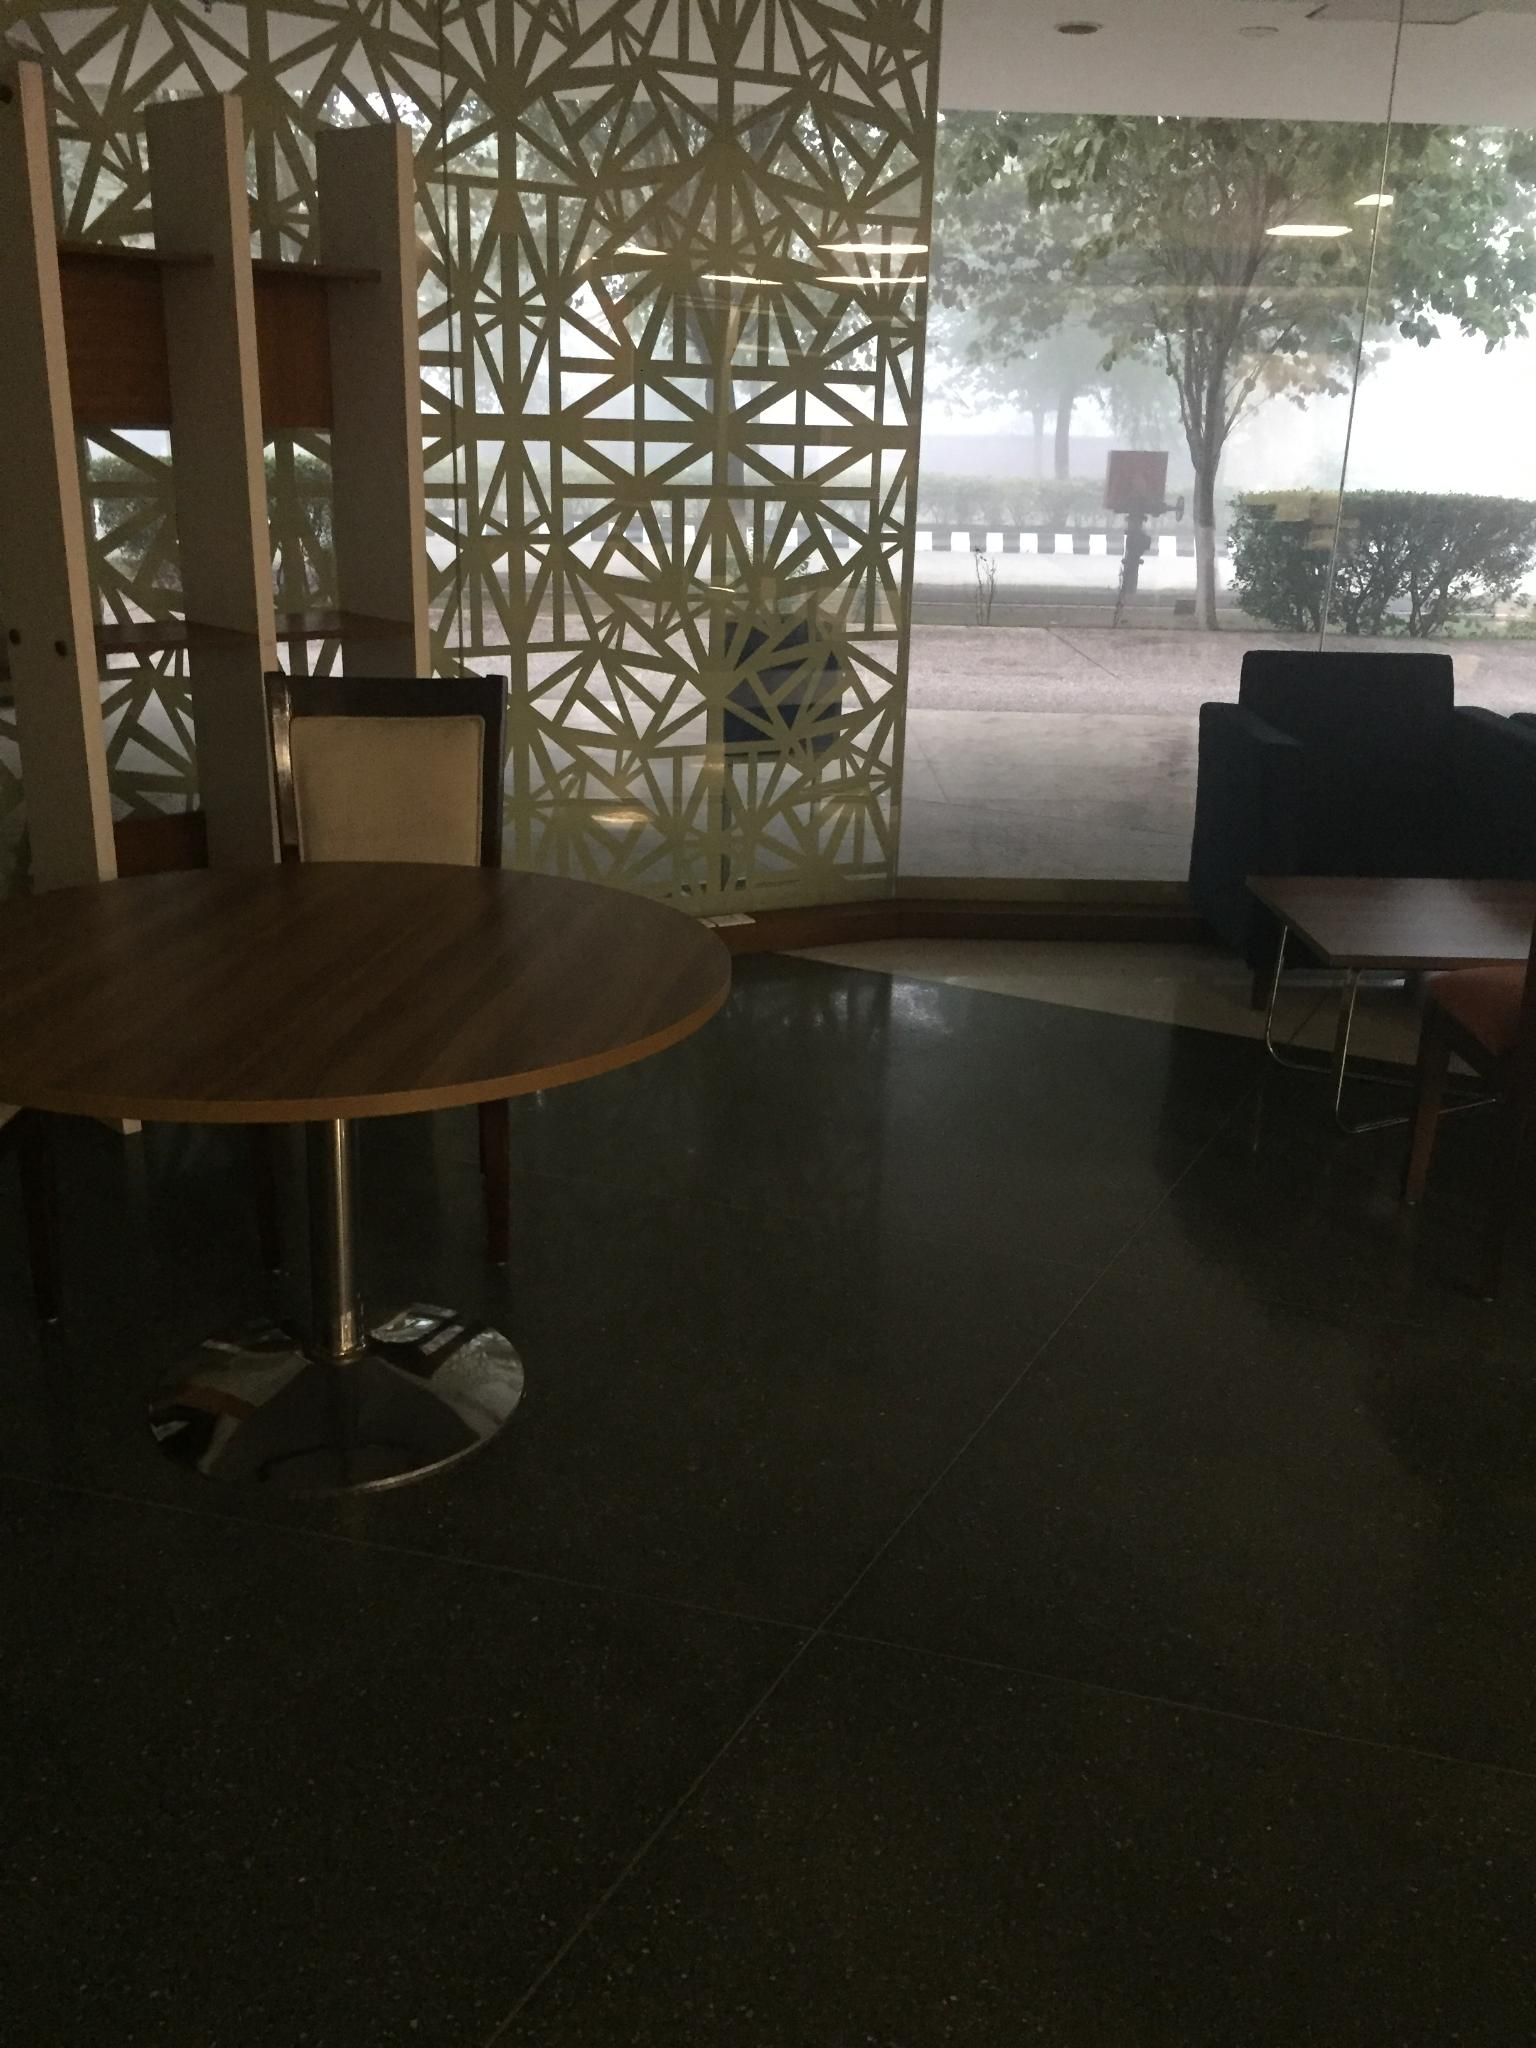chair: (261, 669, 510, 1271)
